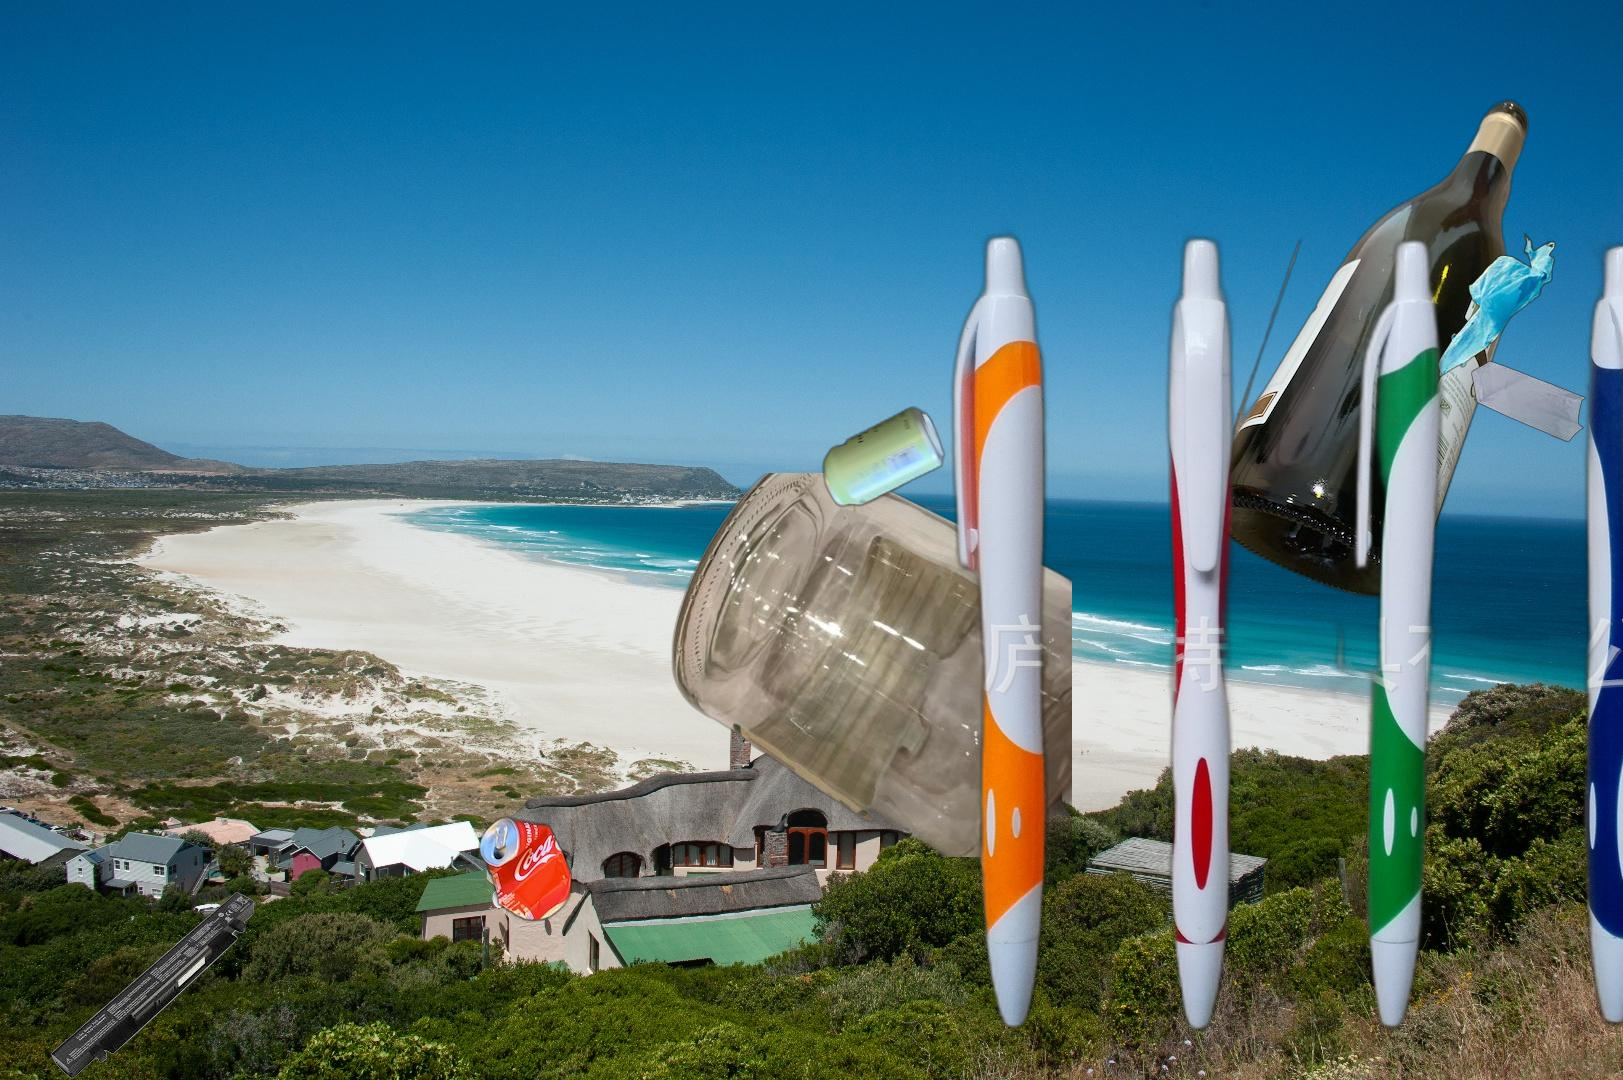battery: (48, 890, 257, 1080)
glass: (1200, 94, 1533, 603), (668, 472, 1072, 857)
metal-cans: (819, 403, 949, 512), (475, 811, 577, 927)
penholder: (943, 142, 1623, 1080)
plastic-bag: (1435, 230, 1558, 380), (1468, 358, 1588, 444)
